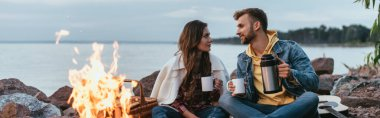fire: (57, 33, 132, 116)
